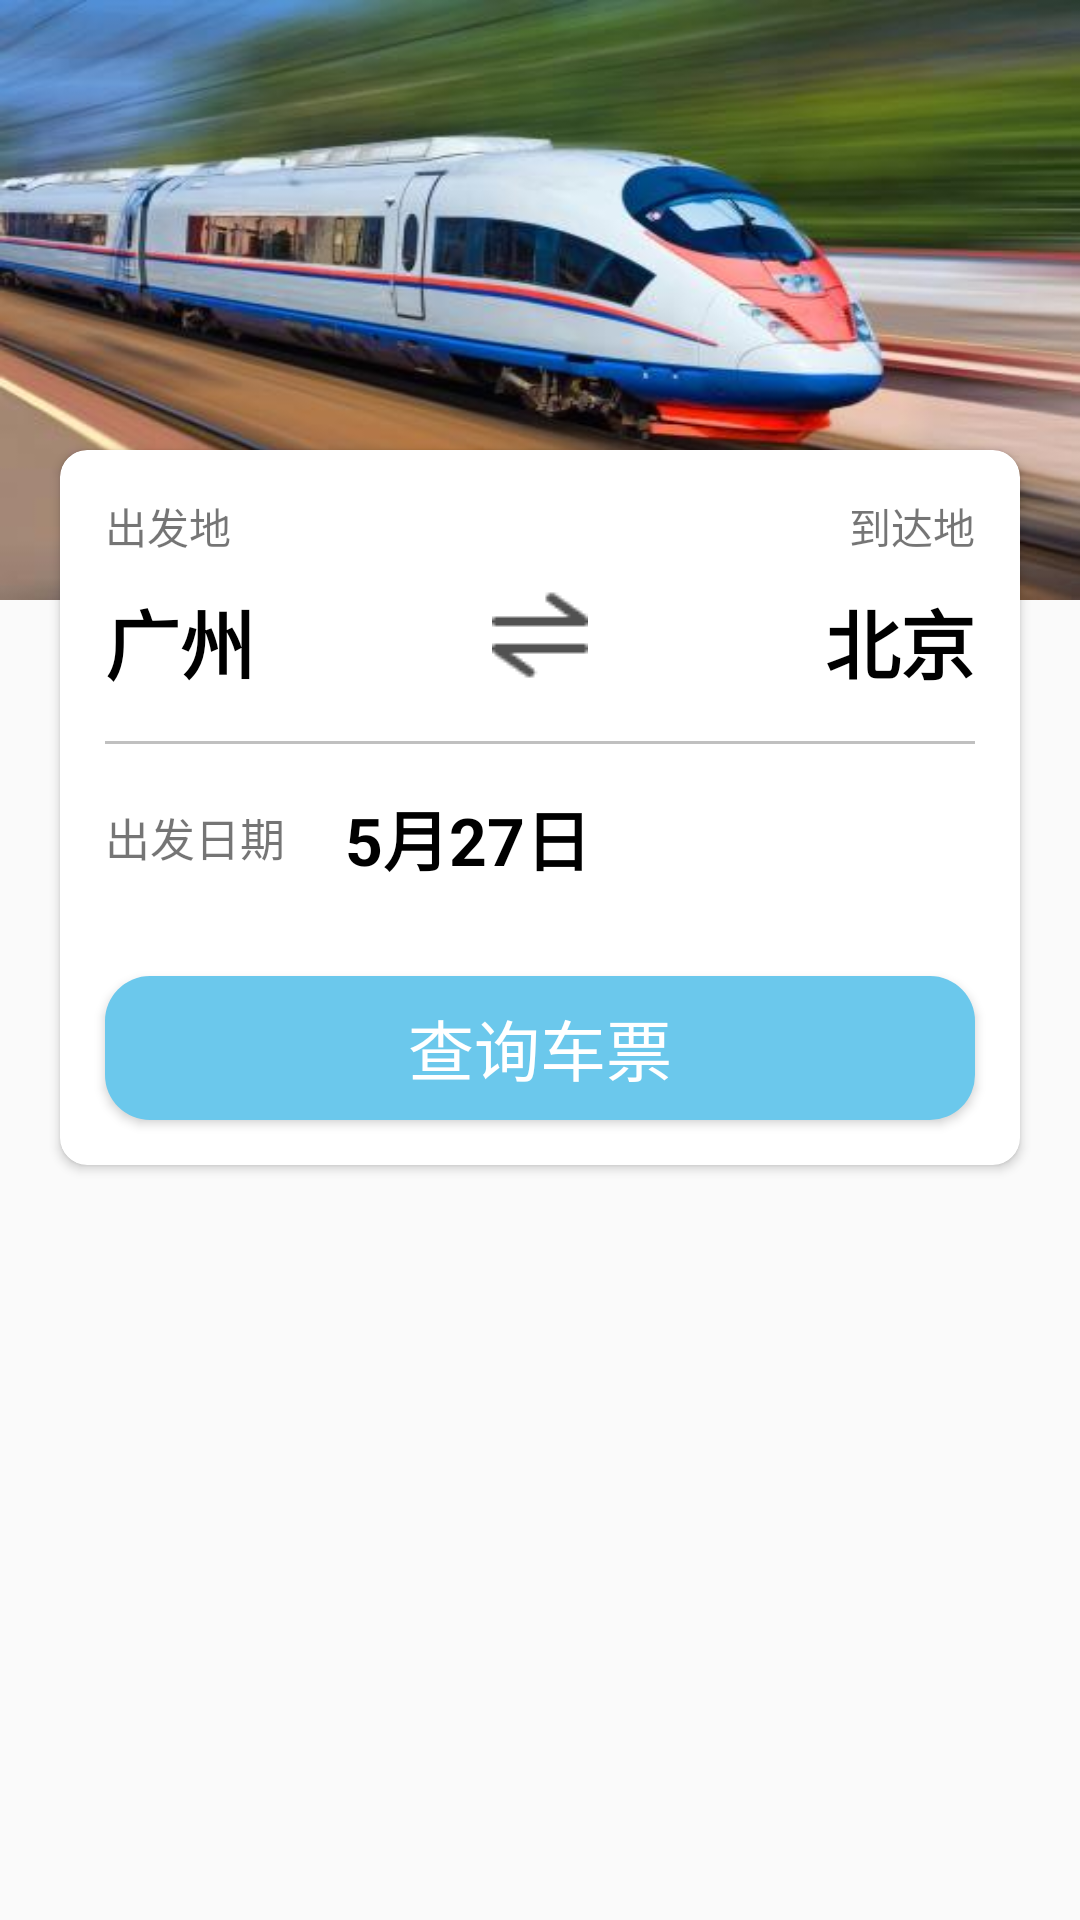

Point at icon controls on the screen. Image size 1080×1920, points as (x,y).
exchange: (540,635)
